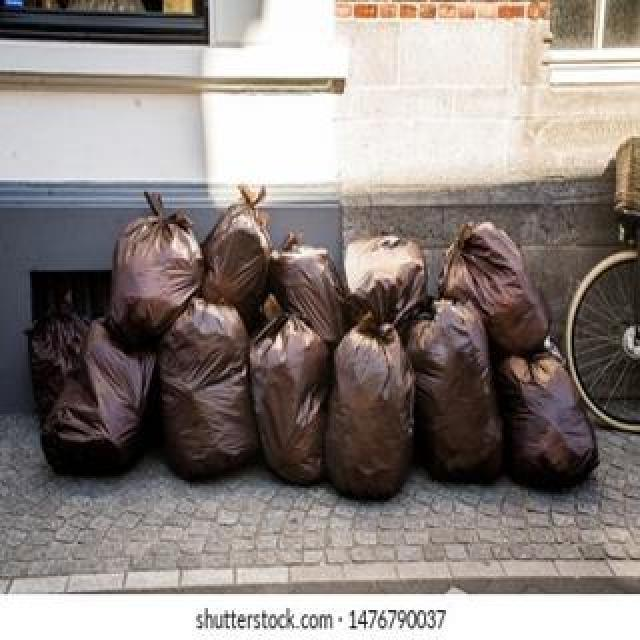Trashbag: (151, 303, 255, 483), (40, 331, 165, 473), (313, 331, 418, 500), (410, 300, 504, 480), (488, 353, 604, 498), (242, 323, 338, 483), (97, 217, 202, 348), (443, 222, 553, 347), (188, 197, 278, 328), (341, 230, 435, 342), (274, 235, 354, 348)
